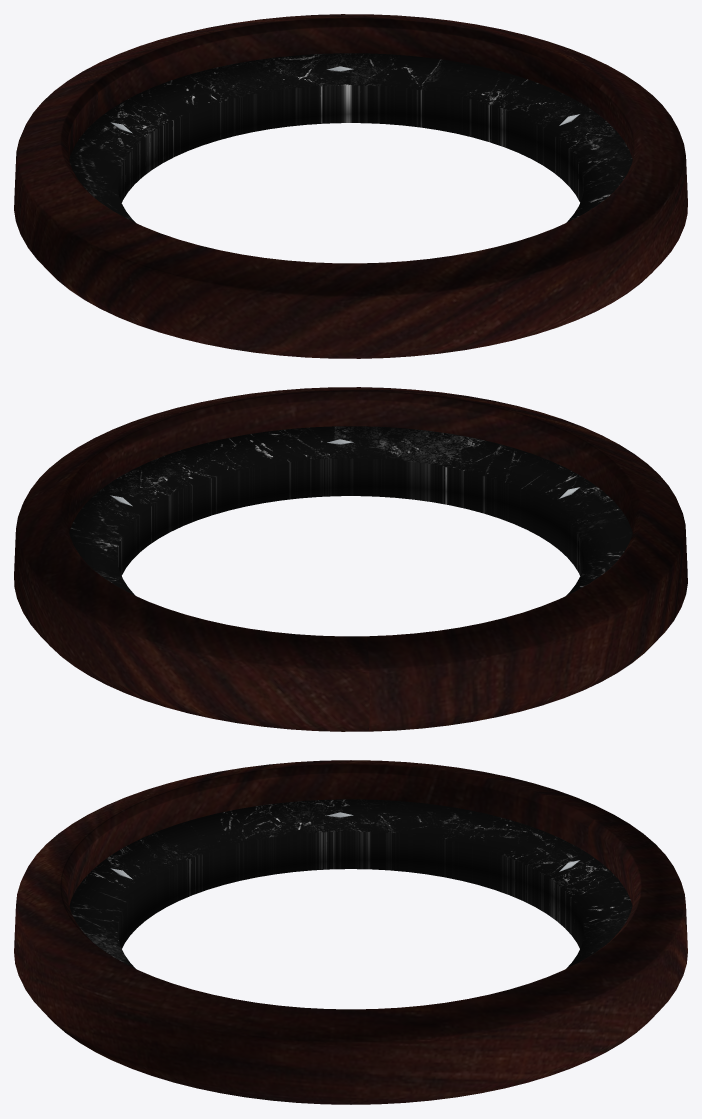
The model's file is RoulleteStatic.obj.
The picture shows the model from 3 angles, top to bottom: view 1: azimuth 30°, elevation 25°; view 2: azimuth 150°, elevation 25°; view 3: azimuth 270°, elevation 25°; orthographic projection.
Visible parts, largest first — view 1: OuterWheelTop, OuterWheelBottom; view 2: OuterWheelTop, OuterWheelBottom; view 3: OuterWheelTop, OuterWheelBottom.
Boxes of the visible parts, x1,y1,x2,y2 form: OuterWheelTop: (14, 14, 687, 358); OuterWheelBottom: (69, 53, 632, 222); OuterWheelTop: (14, 387, 687, 731); OuterWheelBottom: (69, 426, 632, 595); OuterWheelTop: (14, 760, 687, 1104); OuterWheelBottom: (69, 799, 632, 968).
Size of the model in its own units: 9.48 by 1.26 by 9.48.
